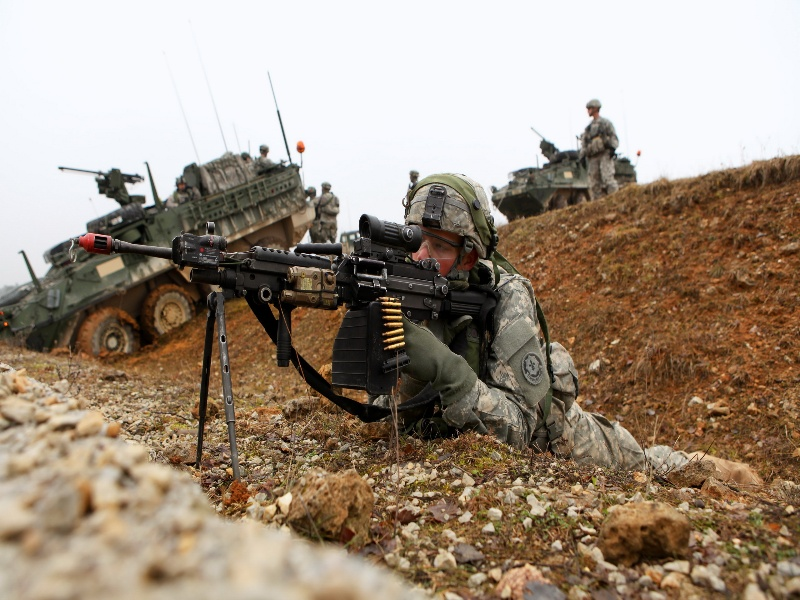person: (404, 173, 763, 489), (579, 100, 618, 201), (316, 182, 340, 244)
weapon: (73, 215, 496, 395)
